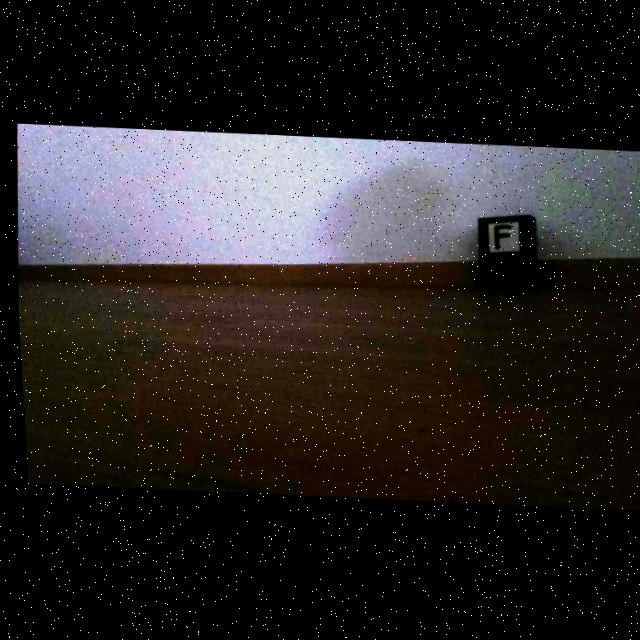F: (492, 225, 509, 250)
